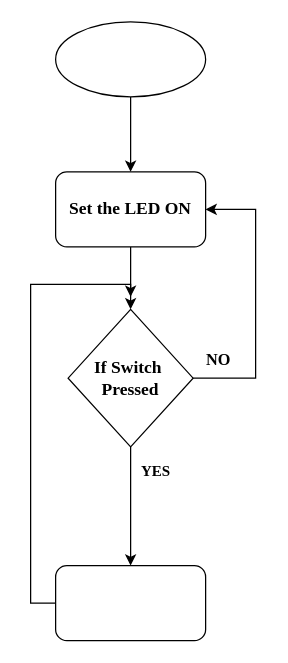
Some shapes in this 288 by 663 pixel diagram are drawn without their labels. The shapes that lost their labels are listed below. From the top down, each one's centre as x and y in pixels, then its label:
(x=130, y=59): START
(x=130, y=602): Toggle the LED state
